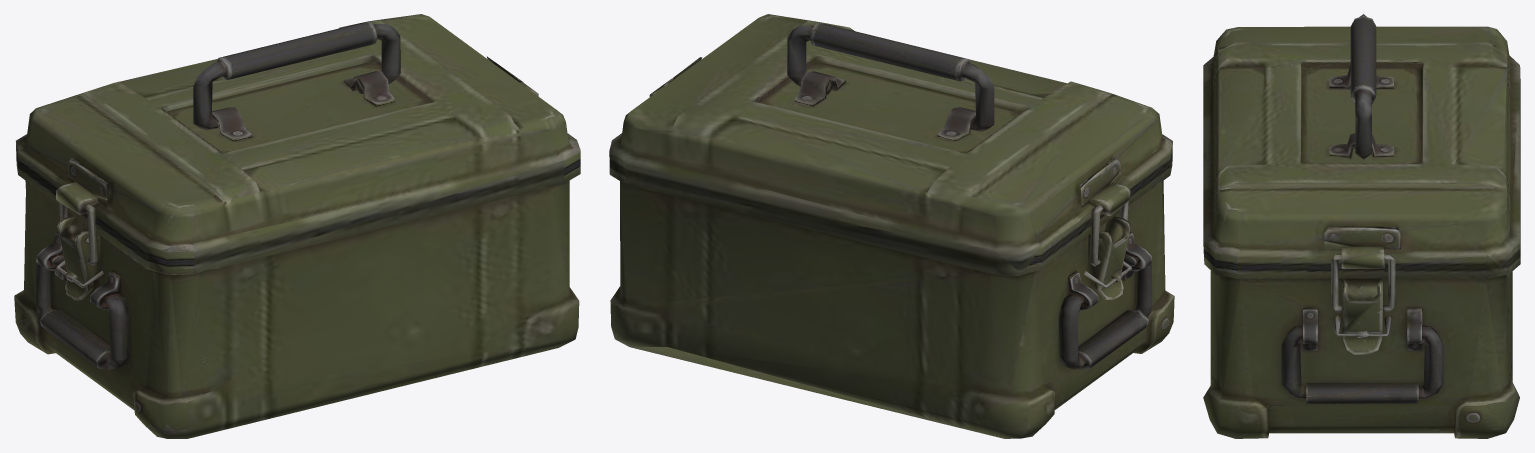
Rendered from ammo_locker.glb.
3 renders of one model, left to right at view 1: azimuth 30°, elevation 25°; view 2: azimuth 150°, elevation 25°; view 3: azimuth 270°, elevation 25°, orthographic. The views are drawn at different scales.
Visible parts, largest first — view 1: ammo_locker; view 2: ammo_locker; view 3: ammo_locker.
Boxes of the visible parts, x1,y1,x2,y2 form: ammo_locker: [14, 14, 580, 438]; ammo_locker: [609, 14, 1174, 438]; ammo_locker: [1203, 14, 1520, 438].
Bounding box in the file's own units: 0.62 × 0.39 × 0.38.
1 material, 1 textured.
